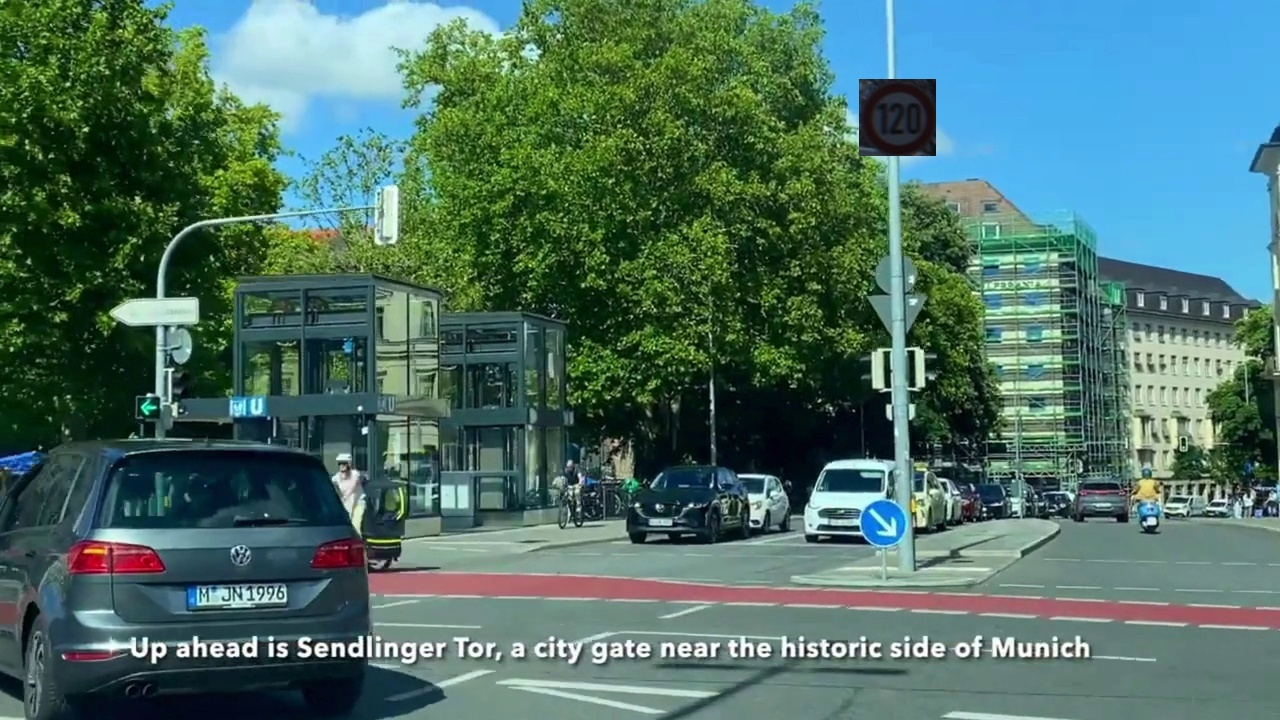Speed 120: (859, 79, 936, 156)
